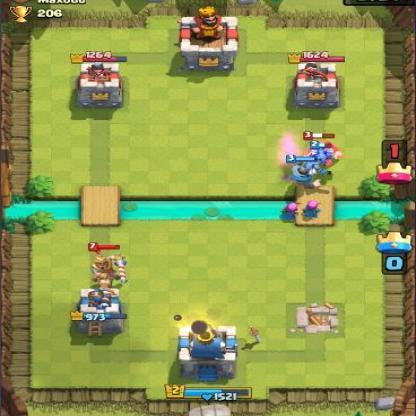ally_archer: (302, 200, 322, 220), (282, 202, 300, 218)
ally_knight: (284, 154, 324, 188)
ally_minion: (308, 140, 334, 165)
enemy_knight: (301, 131, 344, 168)
enemy_prince: (87, 242, 129, 290)
